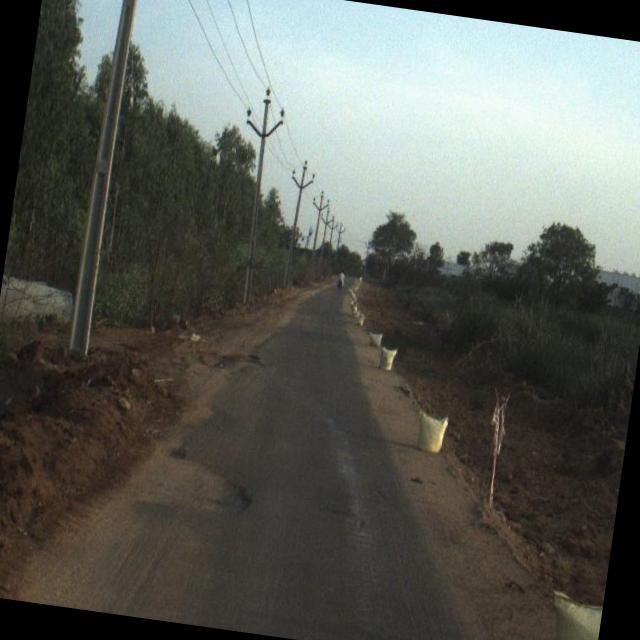pothole: (134, 437, 258, 525), (228, 338, 268, 376)
